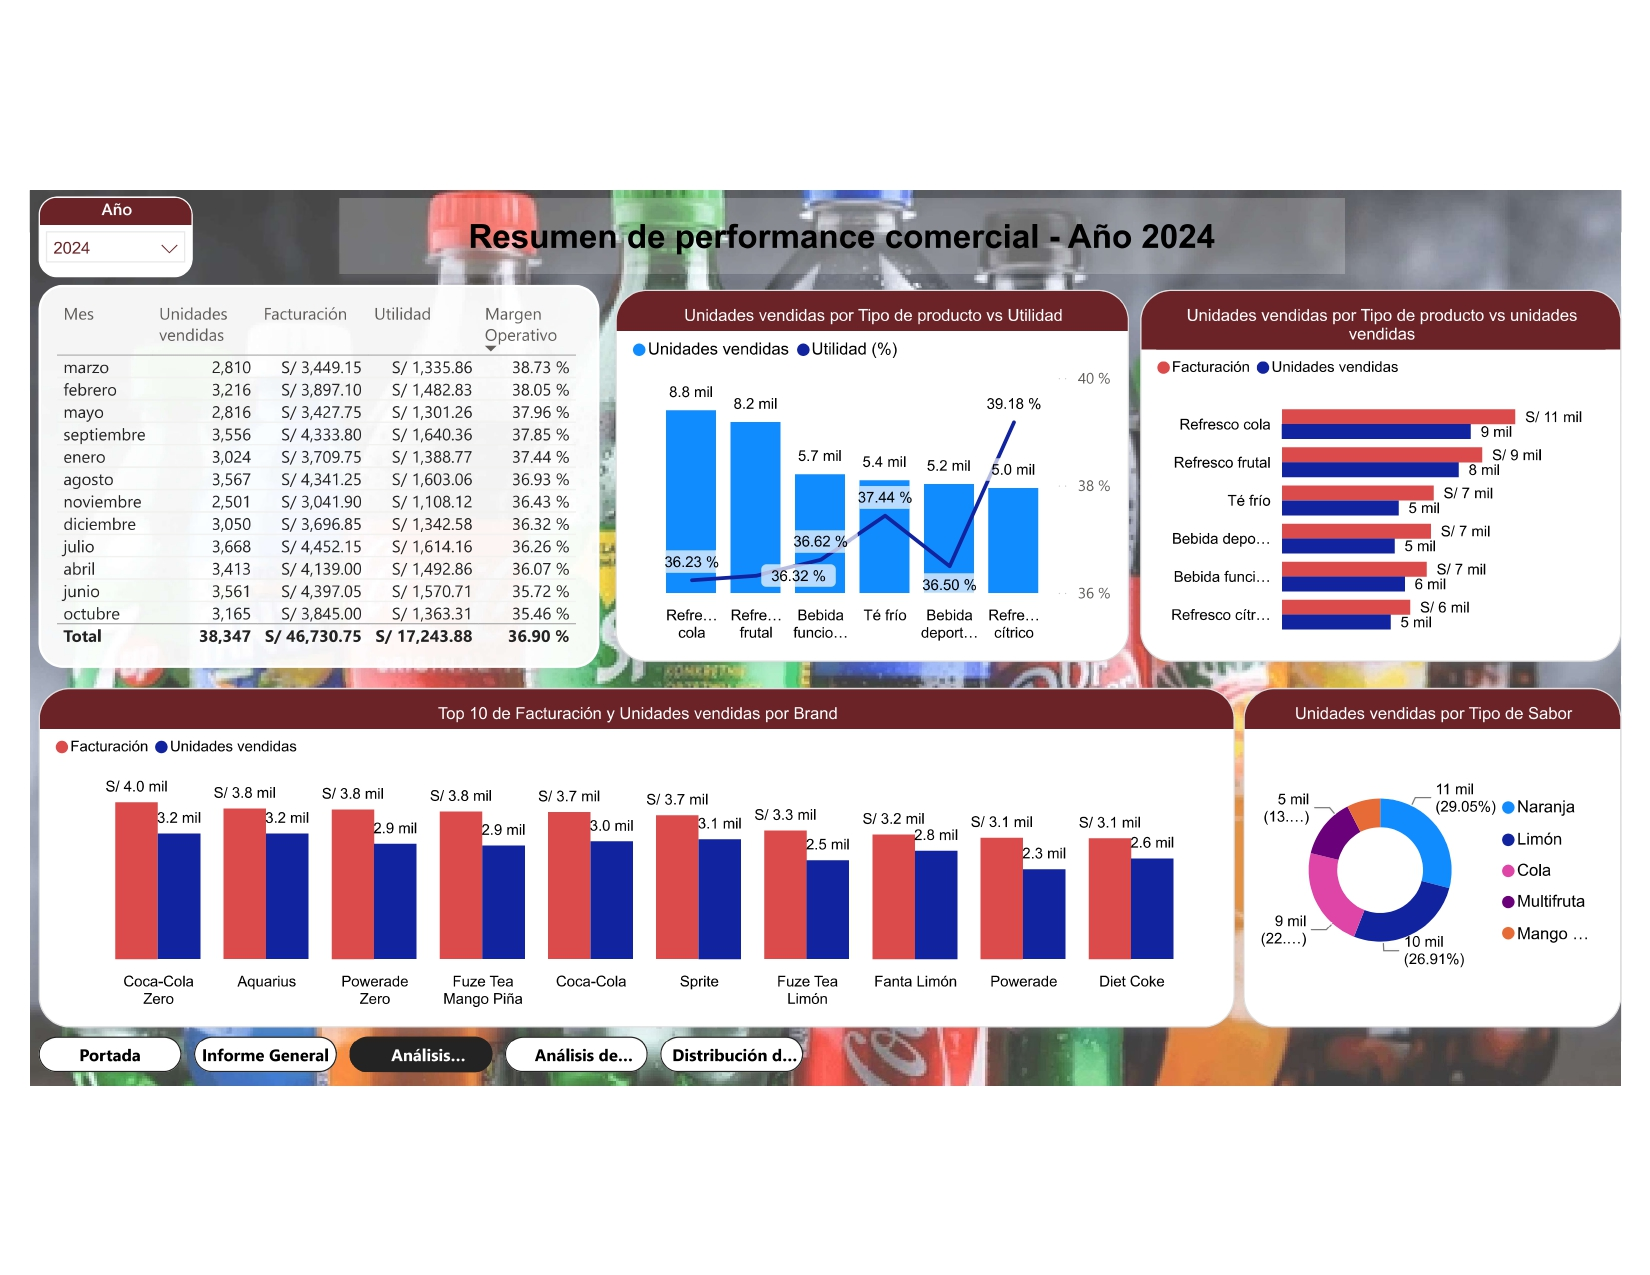

The dashboard page shown, as its layout file describes it:
{"tool":"powerbi","page":{"name":"Análisis comercial","canvas":[1280,720],"ordinal":2},"visuals":[{"type":"pageNavigator","box":[7,680,615,29],"z":0},{"type":"card","fields":{"Values":["Tabla medidas.Año Elegido"]},"box":[249.1,7.3,808.2,60],"z":1000},{"type":"tableEx","fields":{"Values":["CalendarioDAX.Mes texto","Sum(Ventas.Units Sold)","Tabla medidas.Facturación","Tabla medidas.Utilidad","Tabla medidas.Margen Operativo"]},"box":[7,76,451,308],"z":2000},{"type":"slicer","title":"Año","fields":{"Values":["CalendarioDAX.Año"]},"box":[7.3,4.5,123.6,65.5],"z":3000},{"type":"lineClusteredColumnComboChart","title":"Unidades vendidas por Tipo de producto vs Utilidad","fields":{"Category":["Product type.Product Type"],"Y":["Tabla medidas.Unidades vendidas"],"Y2":["Tabla medidas.Utilidad (%)"]},"box":[471,80,413,299],"z":4000},{"type":"donutChart","title":"Unidades vendidas por Tipo de Sabor","fields":{"Y":["Tabla medidas.Unidades vendidas"],"Category":["Flavor.Flavor Type"]},"box":[976.4,400.4,303.6,272.3],"z":5000},{"type":"clusteredColumnChart","title":"Top 10 de Facturación y Unidades vendidas por Brand","fields":{"Y":["Tabla medidas.Facturación","Tabla medidas.Unidades vendidas"],"Category":["Brand.Brand"]},"box":[7.1,400.4,962.3,272.3],"z":6000},{"type":"clusteredBarChart","title":"Unidades vendidas por Tipo de producto vs unidades vendidas","fields":{"Category":["Product type.Product Type"],"Y":["Tabla medidas.Facturación","Tabla medidas.Unidades vendidas"]},"box":[893,80,387,299],"z":6001}]}

Visuals, with their boxes on the page's 1280x720 design canvas (x1, y1, x2, y2). These are canvas units, not pixel positions in the 1650x1275 screenshot, which may show the page scaled, cropped or inside an application window:
pageNavigator: <box>7,680,622,709</box>
card - Tabla medidas.Año Elegido: <box>249,7,1057,67</box>
tableEx - CalendarioDAX.Mes texto x Sum(Ventas.Units Sold): <box>7,76,458,384</box>
"Año" slicer: <box>7,4,131,70</box>
"Unidades vendidas por Tipo de producto vs Utilidad" lineClusteredColumnComboChart: <box>471,80,884,379</box>
"Unidades vendidas por Tipo de Sabor" donutChart: <box>976,400,1280,673</box>
"Top 10 de Facturación y Unidades vendidas por Brand" clusteredColumnChart: <box>7,400,969,673</box>
"Unidades vendidas por Tipo de producto vs unidades vendidas" clusteredBarChart: <box>893,80,1280,379</box>
